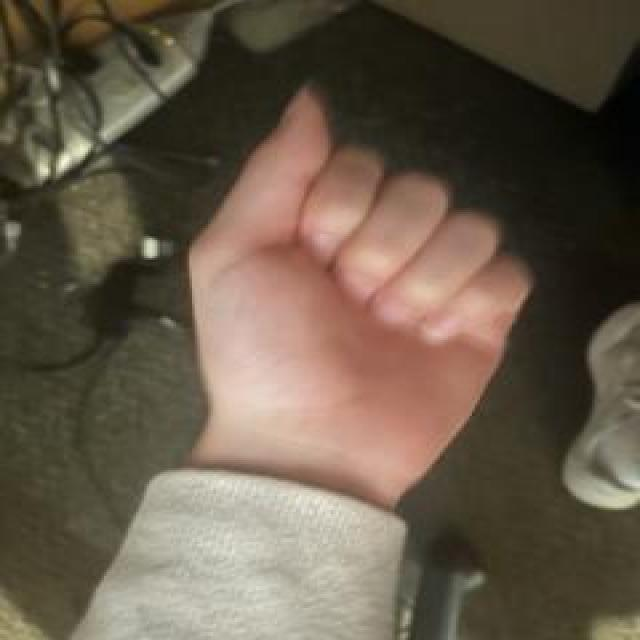A: (180, 78, 543, 502)
